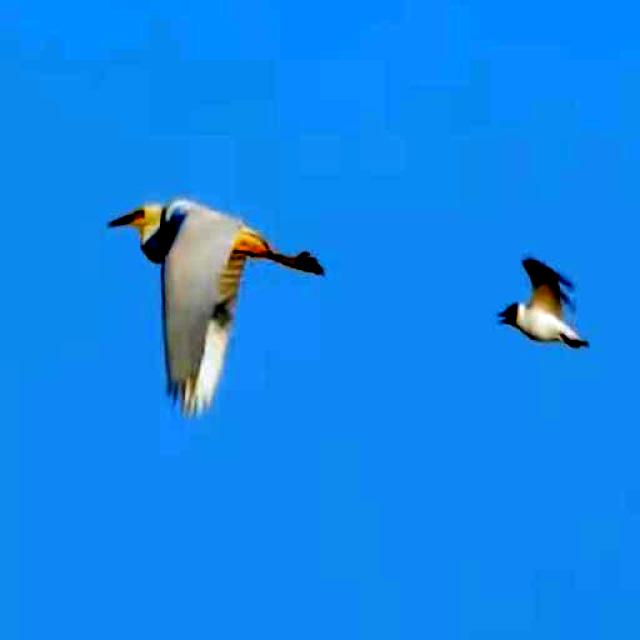airplane: (112, 188, 328, 422), (504, 256, 598, 364)
